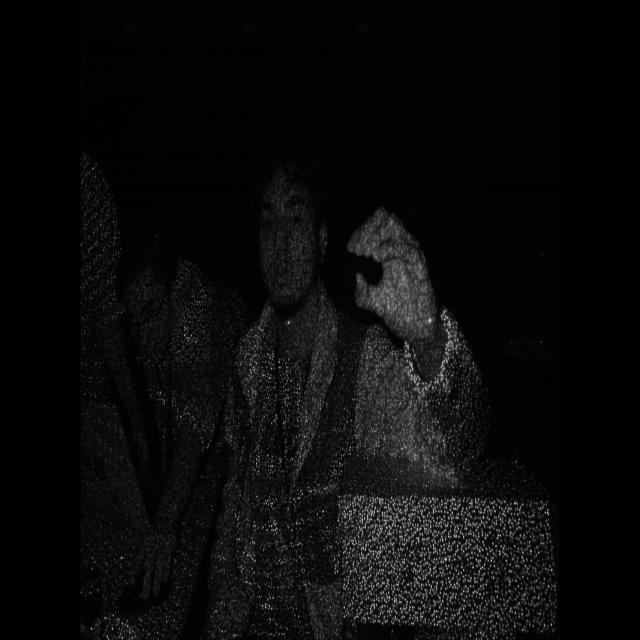C: (337, 194, 447, 358)
